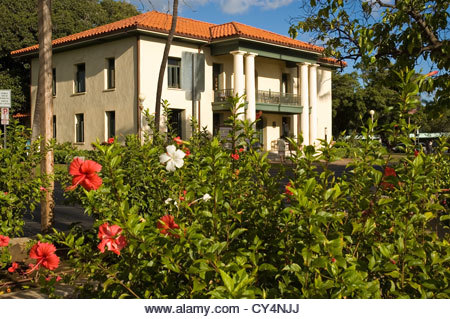Hibiscus: (20, 240, 69, 289), (64, 146, 110, 194), (151, 141, 191, 170), (93, 221, 127, 255)
